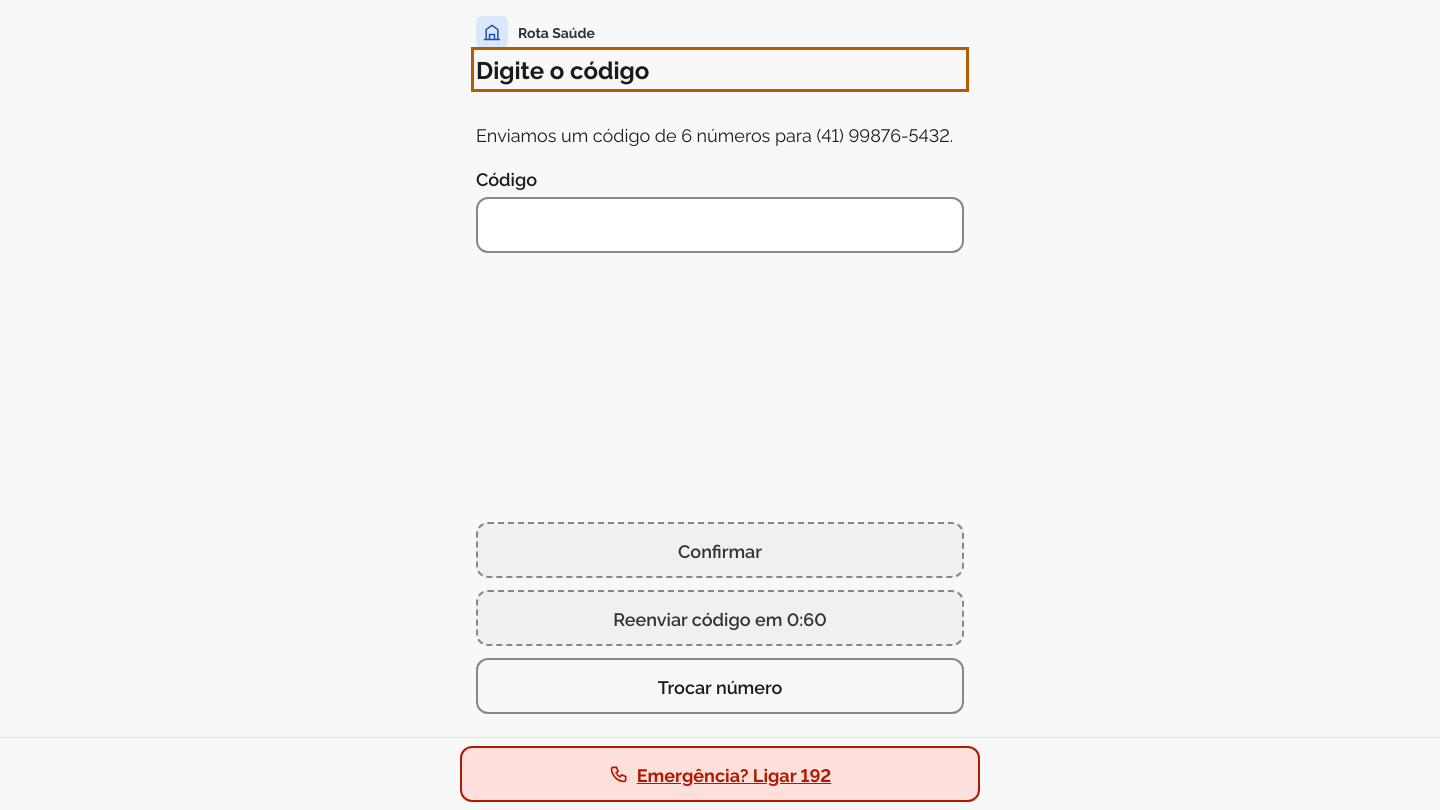
Test case: código (WP-07) › invalid_code marca o campo e foca nele
This screenshot has width=1440, height=810.
Type "123456" into the field labelled "Código" at [720, 225], box [476,197,964,253]
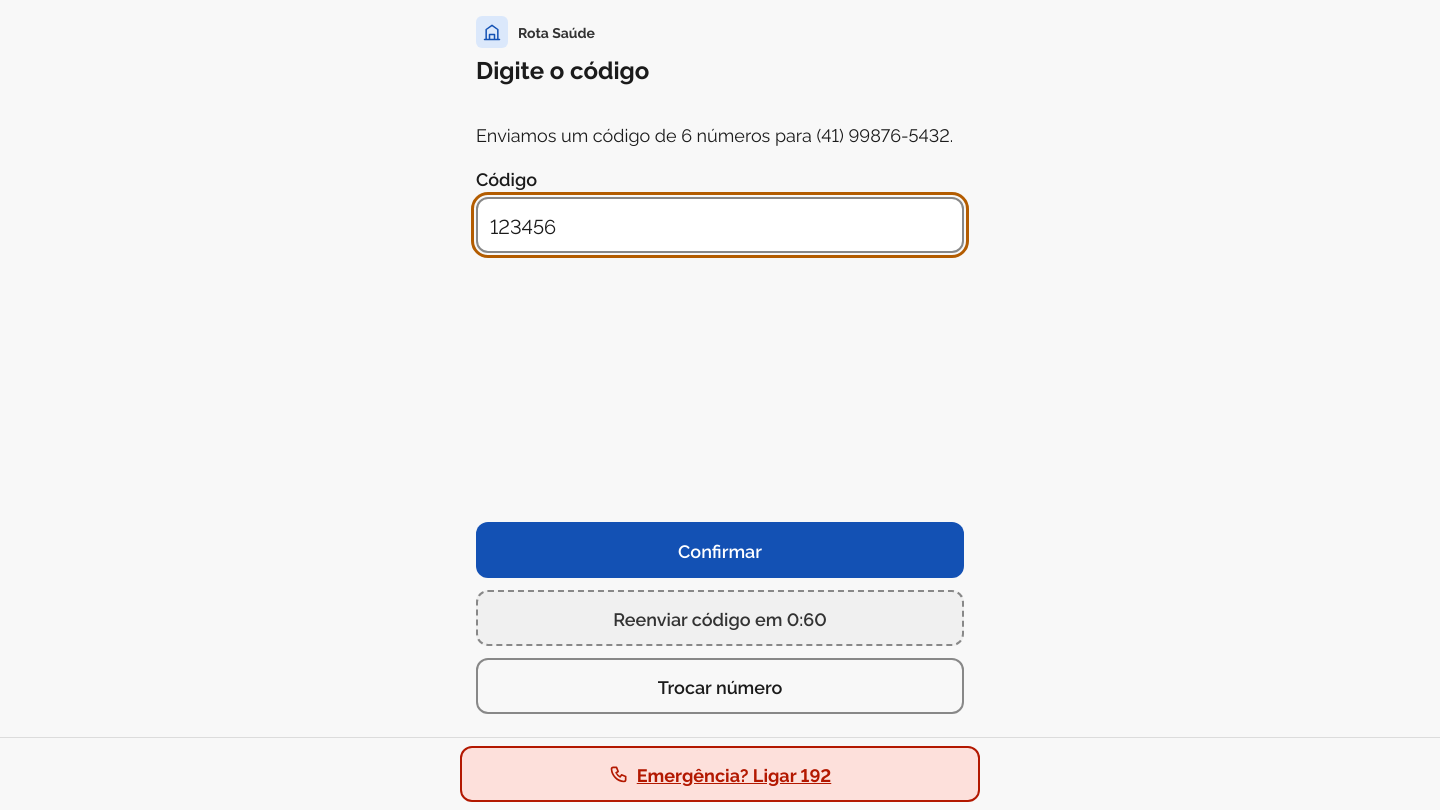
Click the button "Confirmar" at [720, 550], box [476,522,964,578]
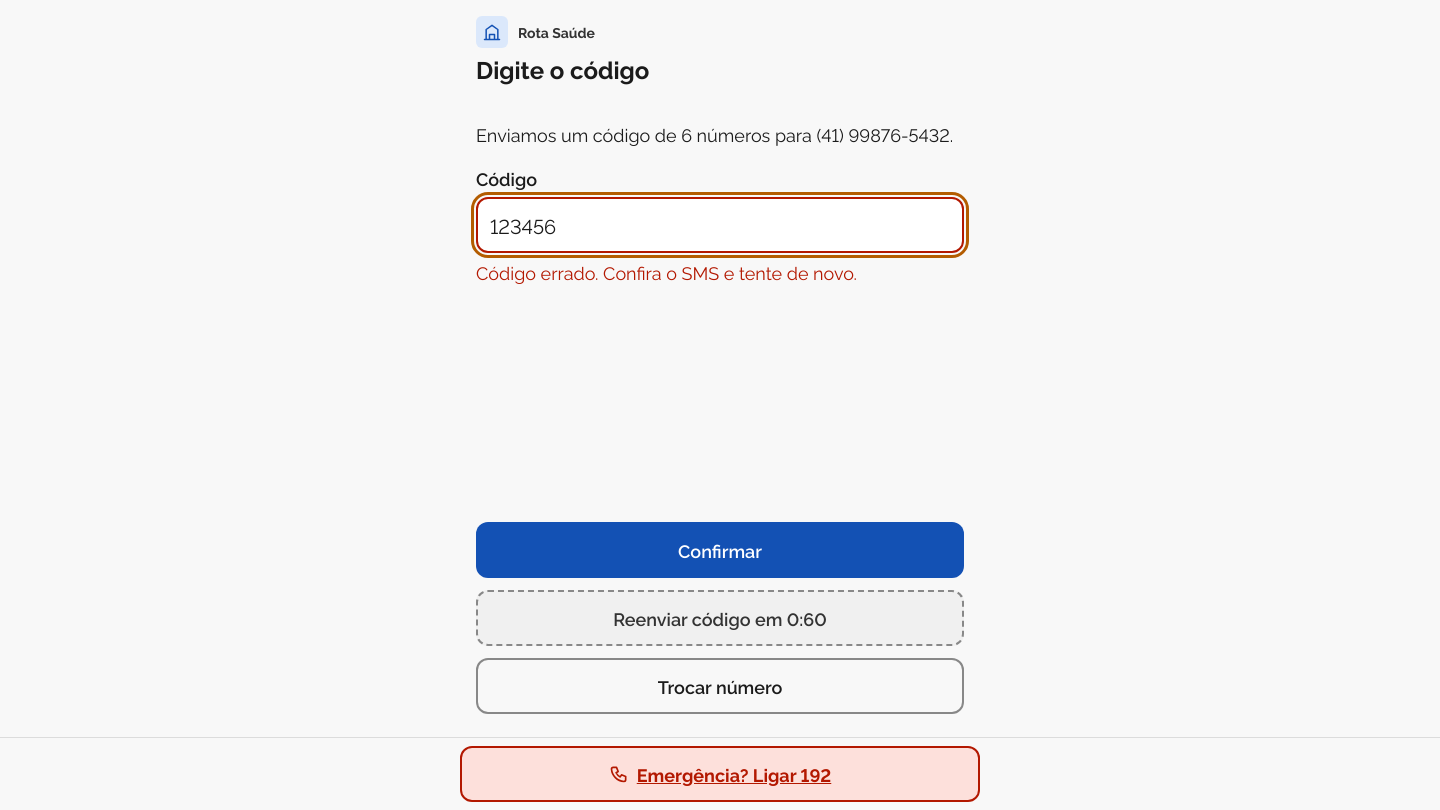
Check: the text "Código errado. Confira o SMS e tente de novo." is shown, box [476,259,857,284]
